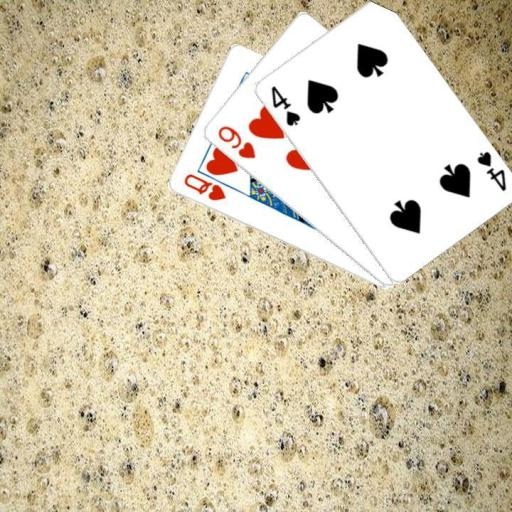4S: (473, 148, 508, 193), (268, 82, 302, 128)
9H: (214, 122, 257, 161)
QH: (180, 171, 227, 203)
